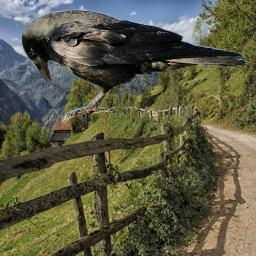Crow: (21, 9, 249, 124)
